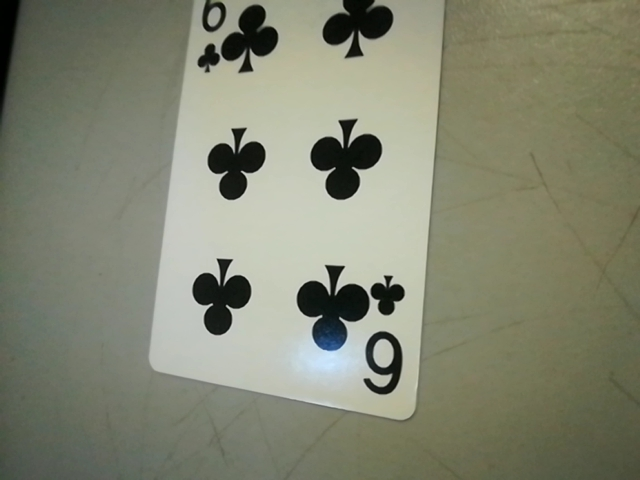mh 6: (360, 269, 418, 403)
